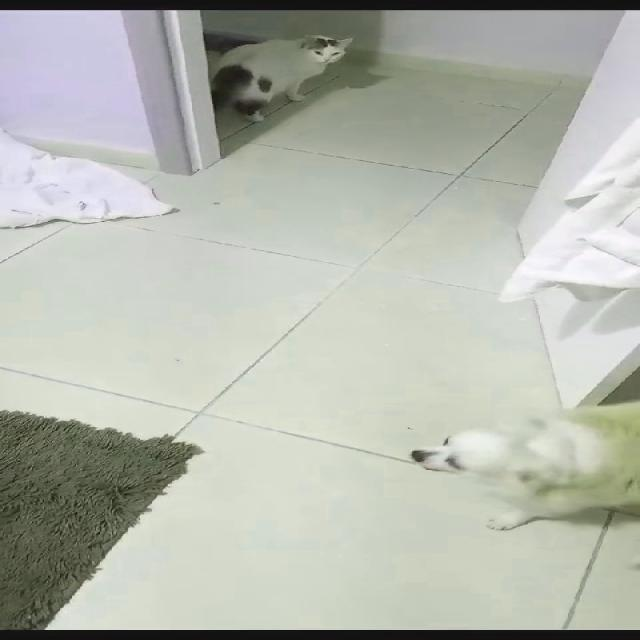Simba: (386, 384, 638, 536), (211, 15, 380, 144)
Theo: (386, 384, 638, 536)
